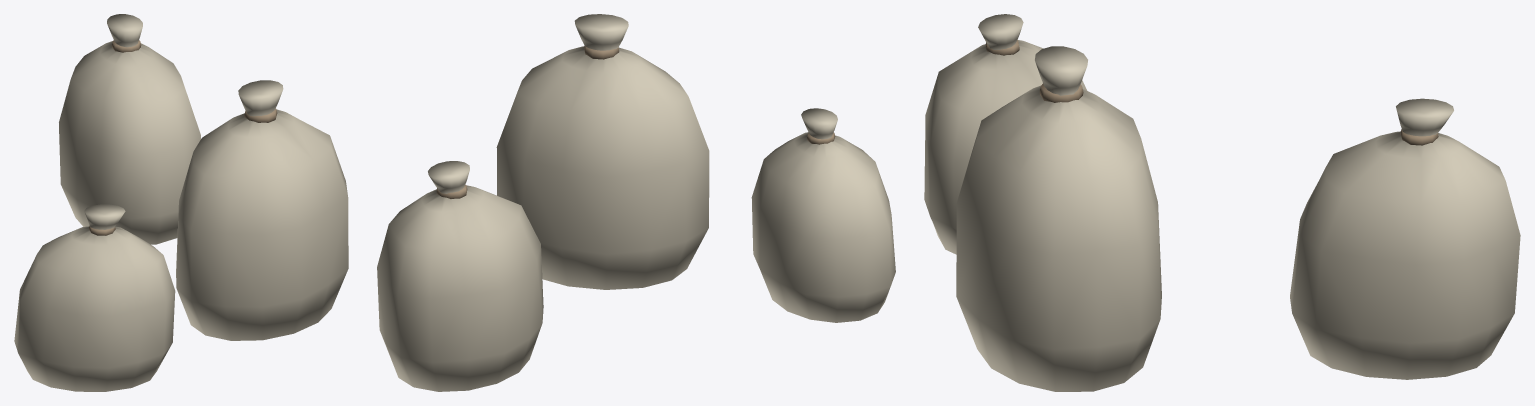
File: sacks.glb
The picture shows the model from 3 angles, left to right: view 1: azimuth 30°, elevation 25°; view 2: azimuth 150°, elevation 25°; view 3: azimuth 270°, elevation 25°; orthographic projection. The views are drawn at different scales.
Parts seen in each view (by area): view 1: sack; view 2: sack; view 3: sack.
Part boxes in pixels (<box>): sack: <box>14,14,348,391</box>; sack: <box>377,14,895,391</box>; sack: <box>924,14,1520,391</box>.
Size of the model in its own units: 0.987 by 0.6138 by 1.15.
